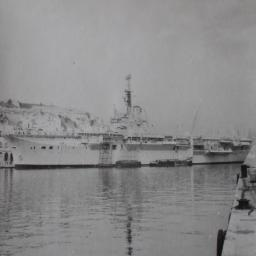Portanaves: (2, 68, 254, 172)
